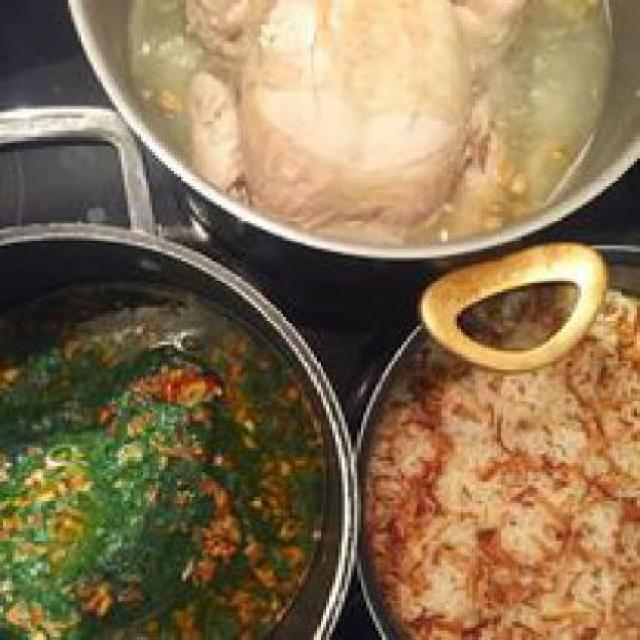fried rice: (358, 265, 636, 637)
molokhia: (3, 235, 339, 637)
